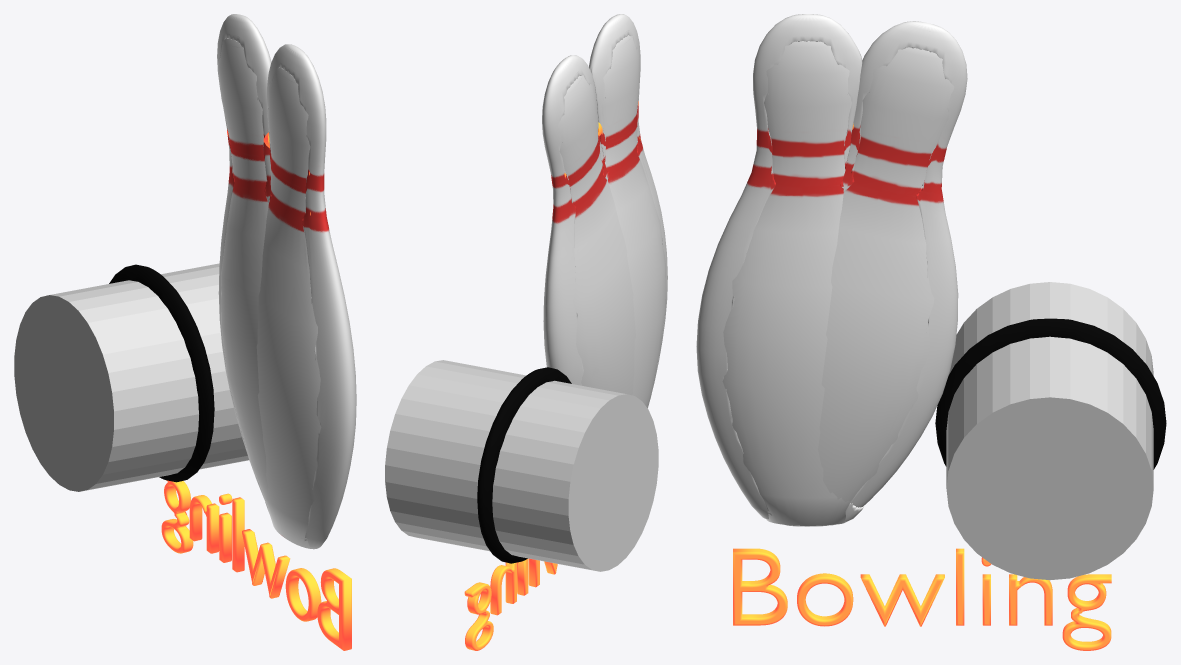
The model's file is bowling_SIGN_1.fbx.
The picture shows the model from 3 angles, left to right: view 1: azimuth 30°, elevation 25°; view 2: azimuth 150°, elevation 25°; view 3: azimuth 270°, elevation 25°; orthographic projection. The views are drawn at different scales.
Visible parts, largest first — view 1: Cylinder, Sphere.005, Sphere.004, Sphere.006, bowling, Sphere, Sphere.007; view 2: Cylinder, Sphere.006, Sphere.005, Sphere.007, Sphere, bowling, Sphere.004; view 3: Cylinder, Sphere.005, Sphere.006, Sphere.004, Sphere.007, bowling, Sphere.
Part boxes in pixels (x1,y1,x2,y2): Cylinder: (14,263,248,491); Sphere.005: (256,67,321,549); Sphere.004: (265,44,356,547); Sphere.006: (218,38,307,539); bowling: (161,480,351,650); Sphere: (109,264,214,482); Sphere.007: (217,14,271,500); Cylinder: (385,360,658,571); Sphere.006: (558,75,635,395); Sphere.005: (601,35,665,407); Sphere.007: (542,55,607,385); Sphere: (477,367,571,563); bowling: (464,558,557,650); Sphere.004: (589,14,667,408); Cylinder: (946,282,1153,580); Sphere.005: (722,41,851,525); Sphere.006: (767,47,954,525); Sphere.004: (696,14,864,526); Sphere.007: (842,21,967,507); bowling: (733,548,1111,650); Sphere: (935,318,1166,469).
Bounding box in the file's own units: 209 × 566 × 384.
Materials: 9 (4 with a texture image).
